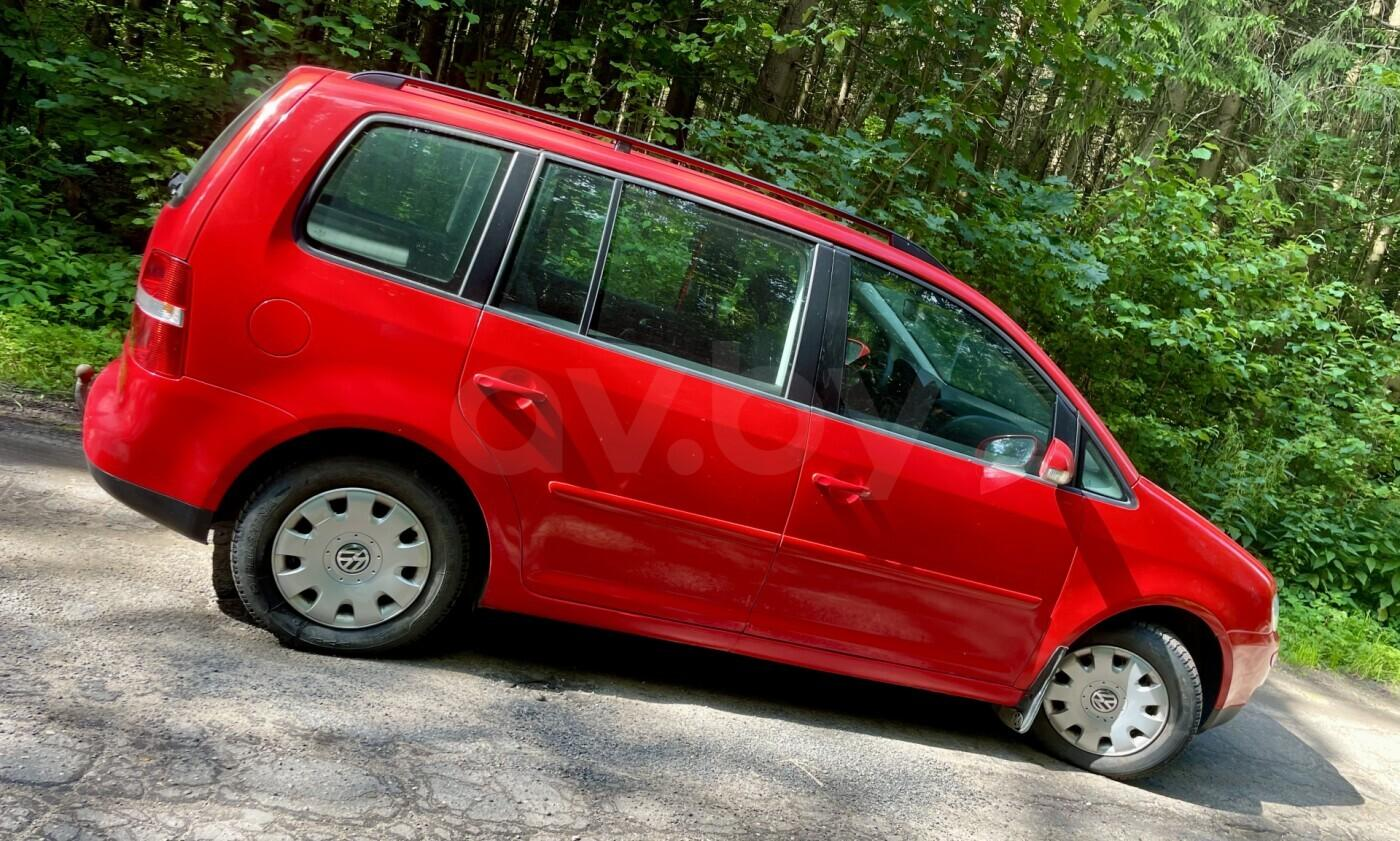Touran_2003-2006: (74, 61, 1281, 779)
